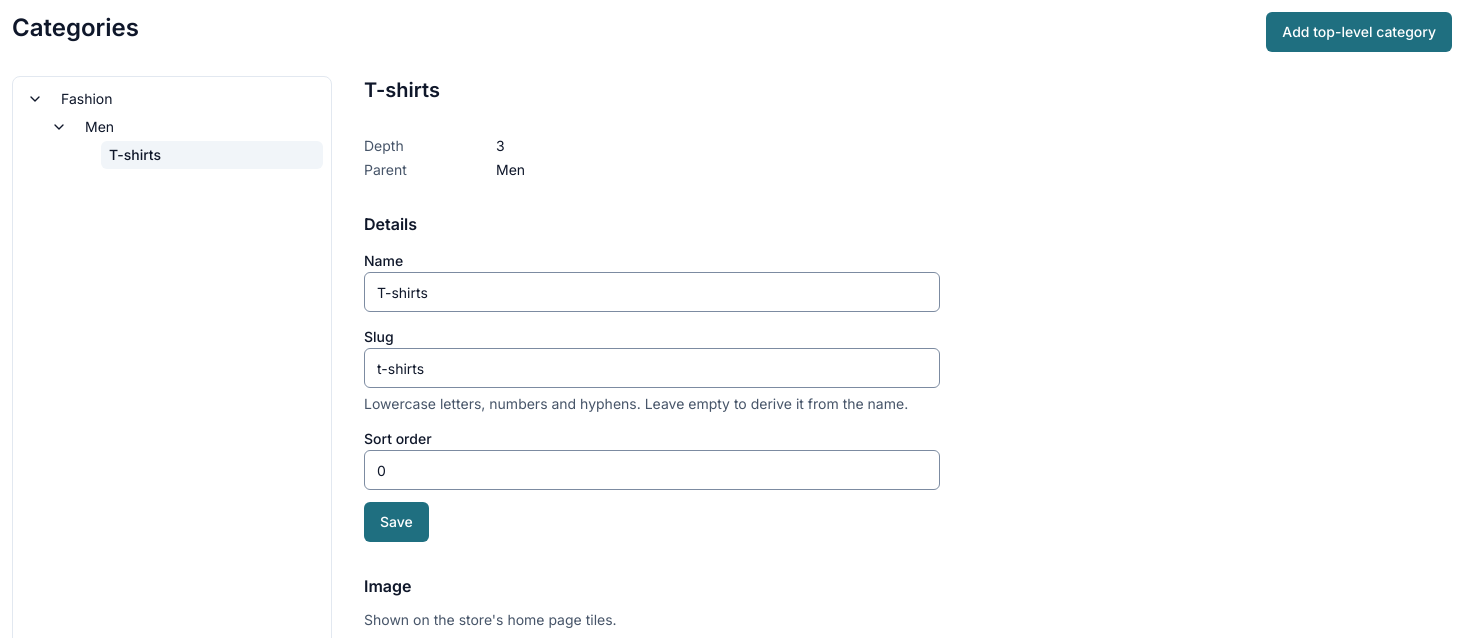
category panel (spec 03 AD-07) › details: CATEGORY_NAME_TAKEN on its field
The width and height of the screenshot is (1464, 638).
Type " 2" into the field labelled "Name" at (652, 292), box [364,272,940,312]
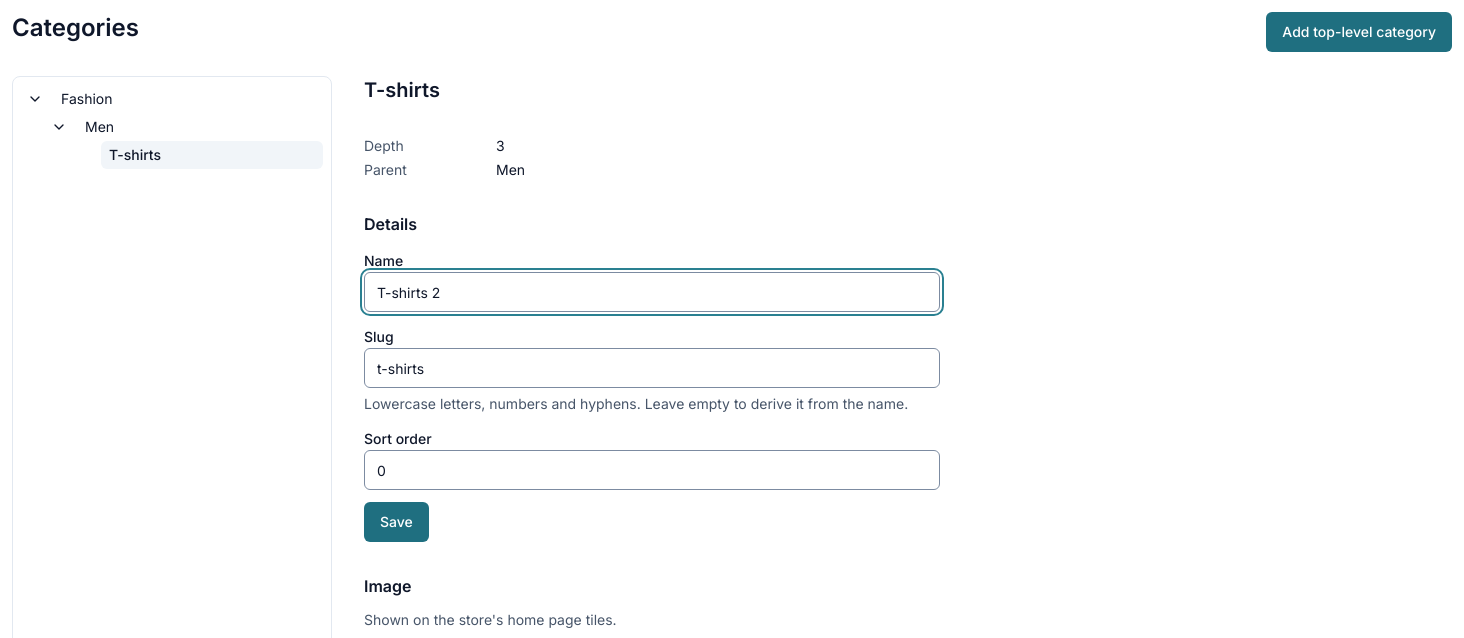
Click the button "Save" at (396, 522), box [364,502,429,542]
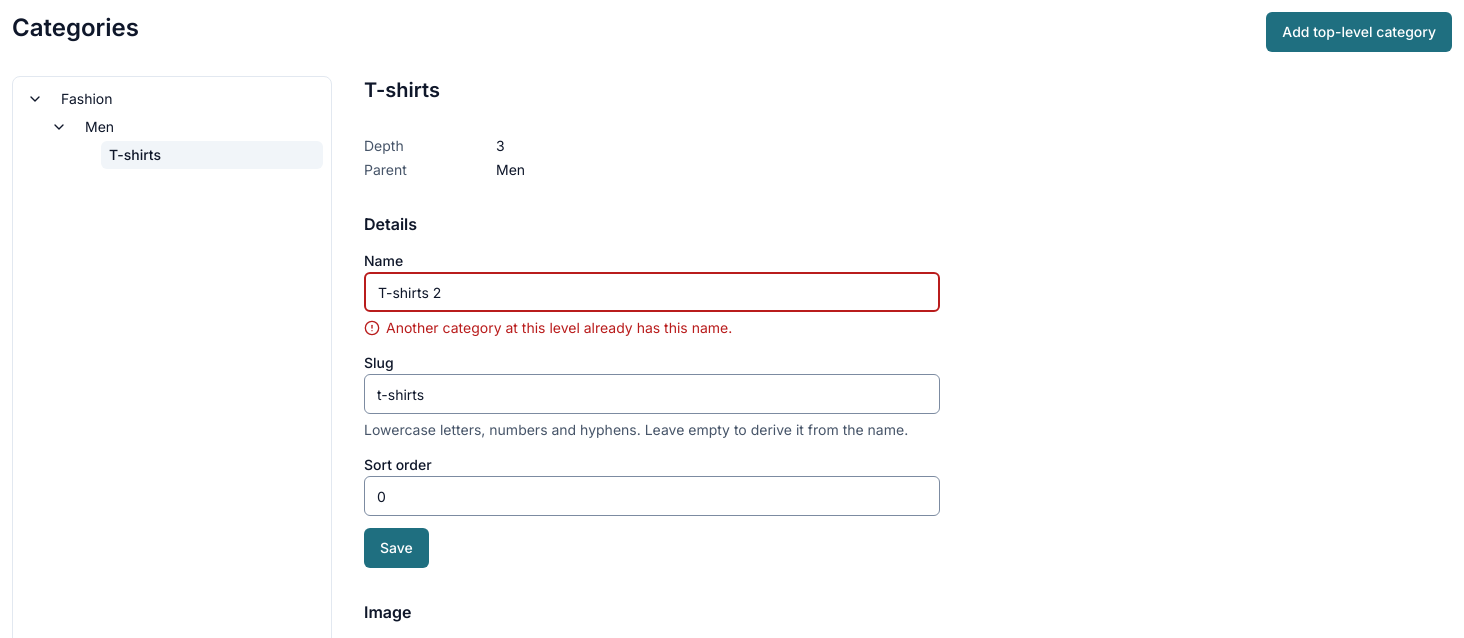
expect the text "Another category at this level already has this name." is shown: met, box [364,319,732,336]
